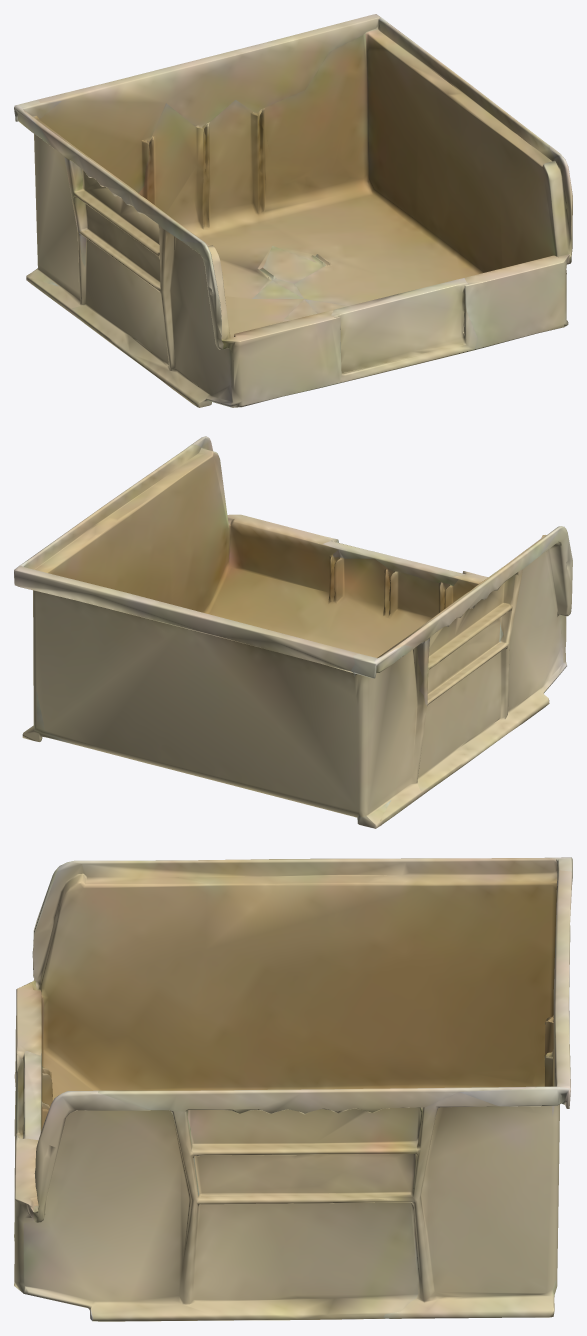
The model's file is Avengers_Thor_PLlrpYniaeB-high.glb.
3 renders of one model, top to bottom at view 1: azimuth 30°, elevation 25°; view 2: azimuth 150°, elevation 25°; view 3: azimuth 270°, elevation 25°, orthographic. The views are drawn at different scales.
Parts seen in each view (by area): view 1: Avengers_Thor_PLlrpYniaeB; view 2: Avengers_Thor_PLlrpYniaeB; view 3: Avengers_Thor_PLlrpYniaeB.
Part boxes in pixels (x1,y1,x2,y2): Avengers_Thor_PLlrpYniaeB: [14, 14, 572, 407]; Avengers_Thor_PLlrpYniaeB: [14, 436, 572, 828]; Avengers_Thor_PLlrpYniaeB: [14, 857, 572, 1321].
Bounding box in the file's own units: 0.283 × 0.1326 × 0.2809.
1 material, 1 textured.
